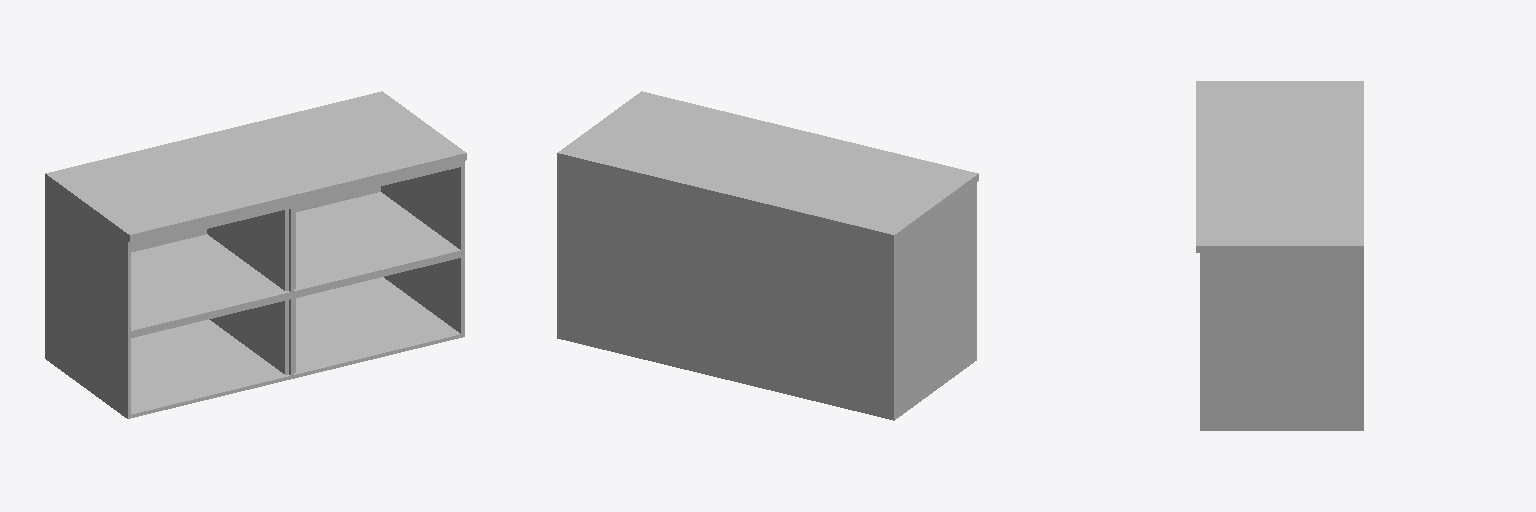
File: KitchenOPEN_Export-4.obj
The picture shows the model from 3 angles: view 1: azimuth 30°, elevation 25°; view 2: azimuth 150°, elevation 25°; view 3: azimuth 270°, elevation 25°; orthographic projection.
Parts seen in each view (by area): view 1: KitchenOPEN_Export-4; view 2: KitchenOPEN_Export-4; view 3: KitchenOPEN_Export-4.
Boxes of the visible parts, box(x1,y1,x2,y2) form: KitchenOPEN_Export-4: box(45, 91, 466, 418); KitchenOPEN_Export-4: box(557, 91, 978, 420); KitchenOPEN_Export-4: box(1196, 81, 1363, 430).
Bounding box in the file's own units: 97 × 51 × 42.